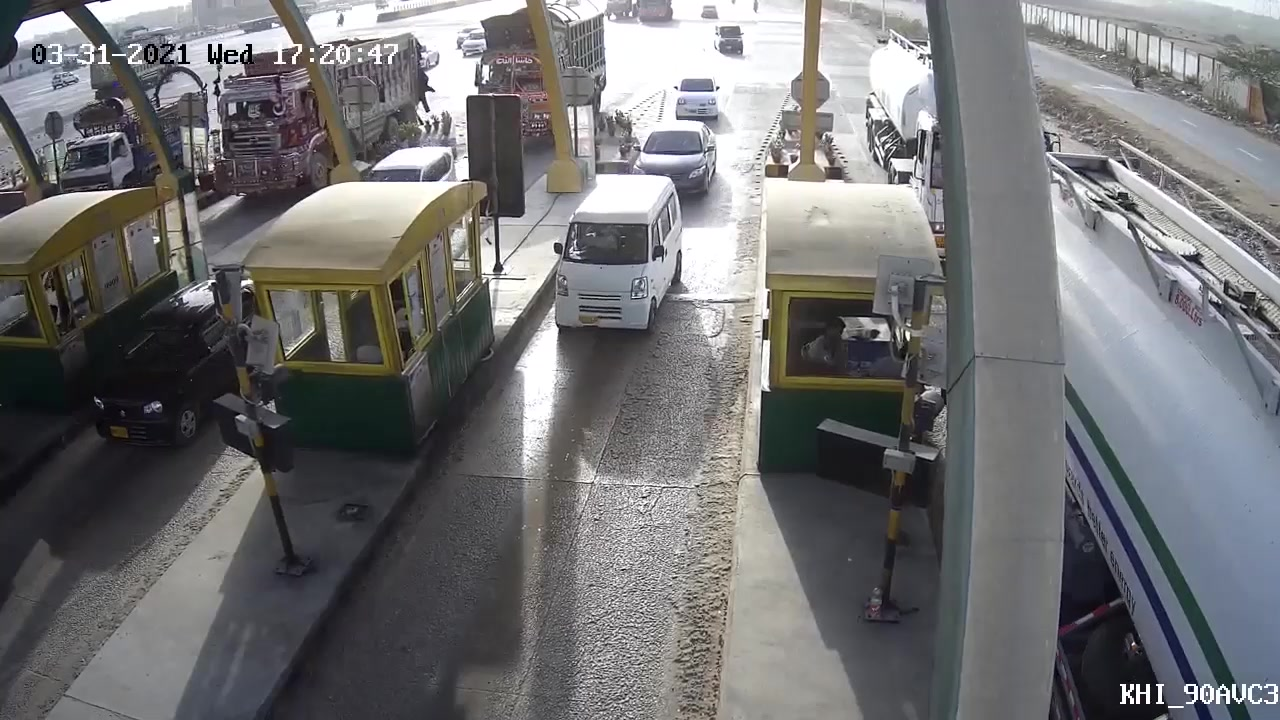F1: (527, 175, 691, 349)
